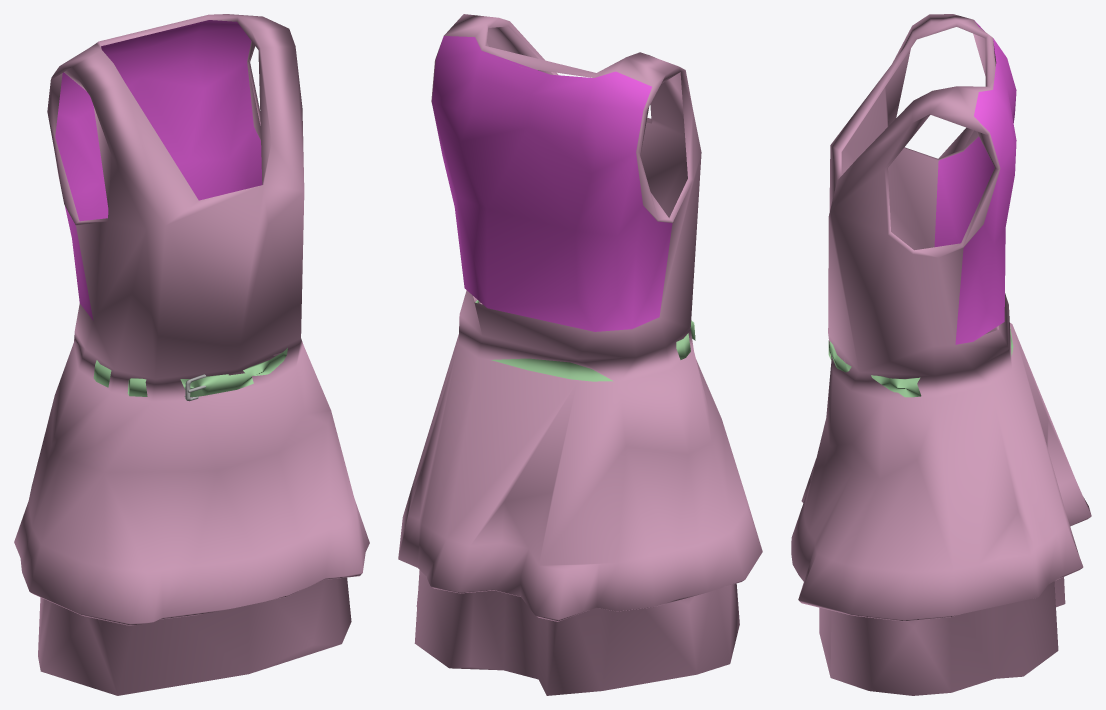
Rendered from vestido.glb.
3 views of the same model, side by side, from view 1: azimuth 30°, elevation 25°; view 2: azimuth 150°, elevation 25°; view 3: azimuth 270°, elevation 25° (orthographic). The views are drawn at different scales.
Visible parts, largest first — view 1: dress_BubblyDress; view 2: dress_BubblyDress; view 3: dress_BubblyDress.
Boxes of the visible parts, <box> form: dress_BubblyDress: <box>14,14,369,695</box>; dress_BubblyDress: <box>398,14,762,695</box>; dress_BubblyDress: <box>791,14,1091,695</box>.
Size of the model in its own units: 4.66 by 8.16 by 3.87.
